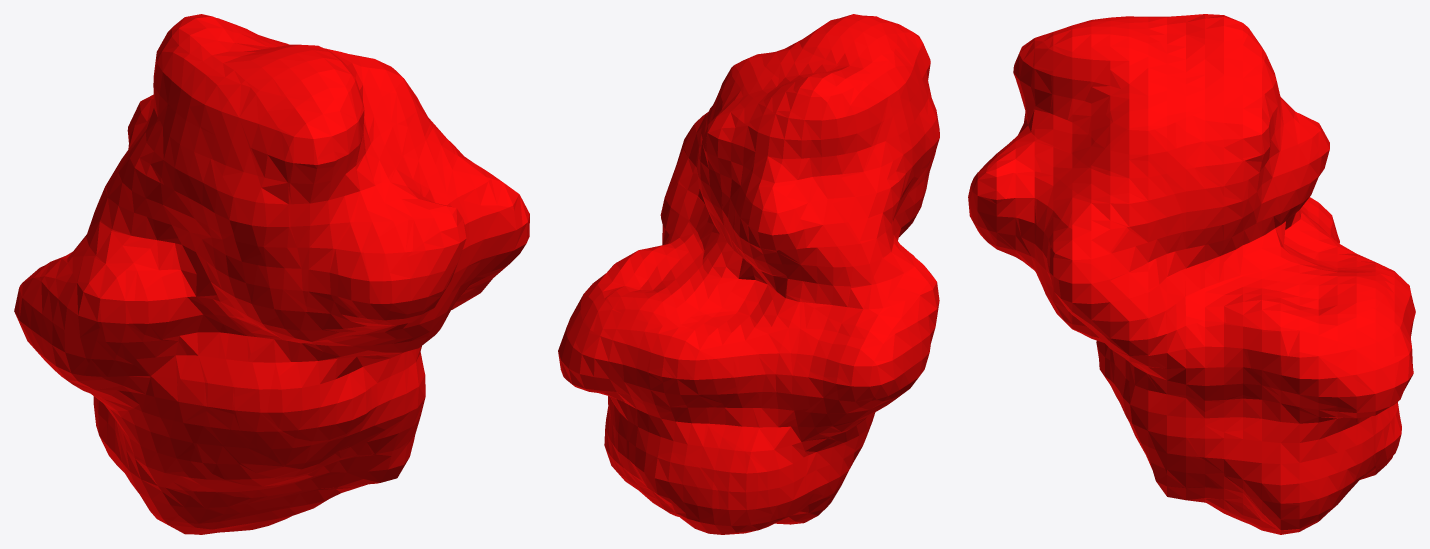
File: cpxR_coarse.dae
3 views of the same model, side by side, from view 1: azimuth 30°, elevation 25°; view 2: azimuth 150°, elevation 25°; view 3: azimuth 270°, elevation 25° (orthographic). The views are drawn at different scales.
Visible parts, largest first — view 1: cpxR; view 2: cpxR; view 3: cpxR.
Part boxes in pixels (x1,y1,x2,y2): cpxR: (14, 14, 529, 534); cpxR: (558, 14, 939, 534); cpxR: (968, 14, 1415, 534).
Size of the model in its own units: 44.45 by 61.01 by 52.69.
